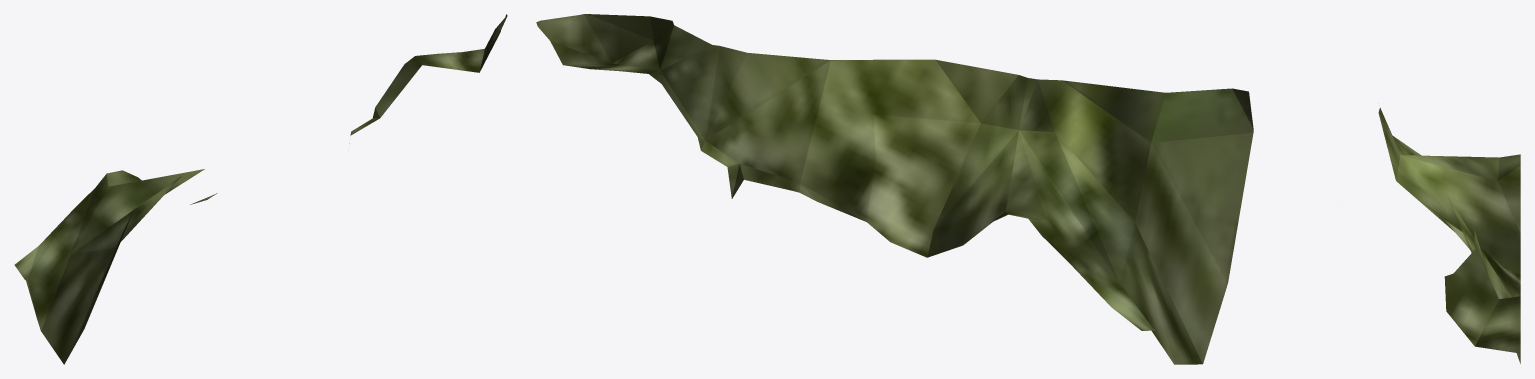
3 renders of one model, left to right at view 1: azimuth 30°, elevation 25°; view 2: azimuth 150°, elevation 25°; view 3: azimuth 270°, elevation 25°, orthographic. The views are drawn at different scales.
Bounding box in the file's own units: 2.1 × 0.7949 × 0.6741.
1 material, 1 textured.
